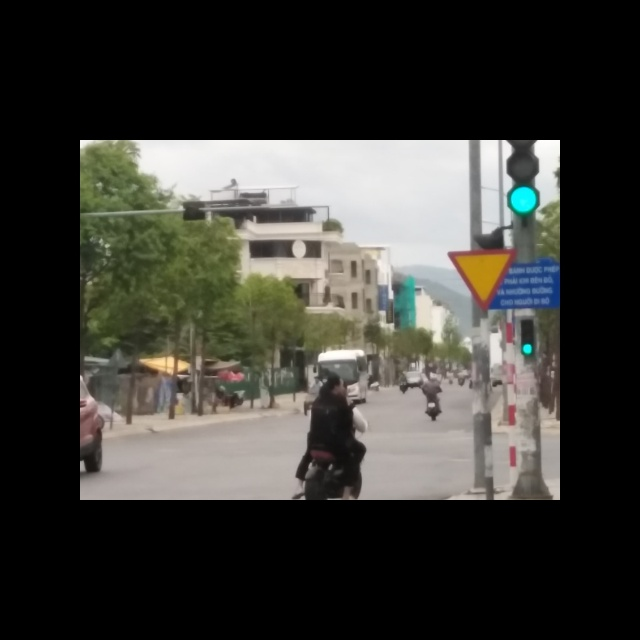Giao nhau với đường ưu tiên: (449, 249, 517, 307)
Đèn xanh: (507, 184, 539, 214)
